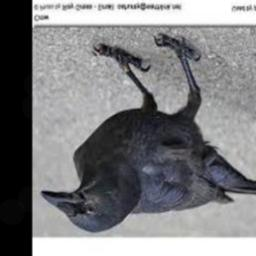Crow: (40, 34, 256, 232)
